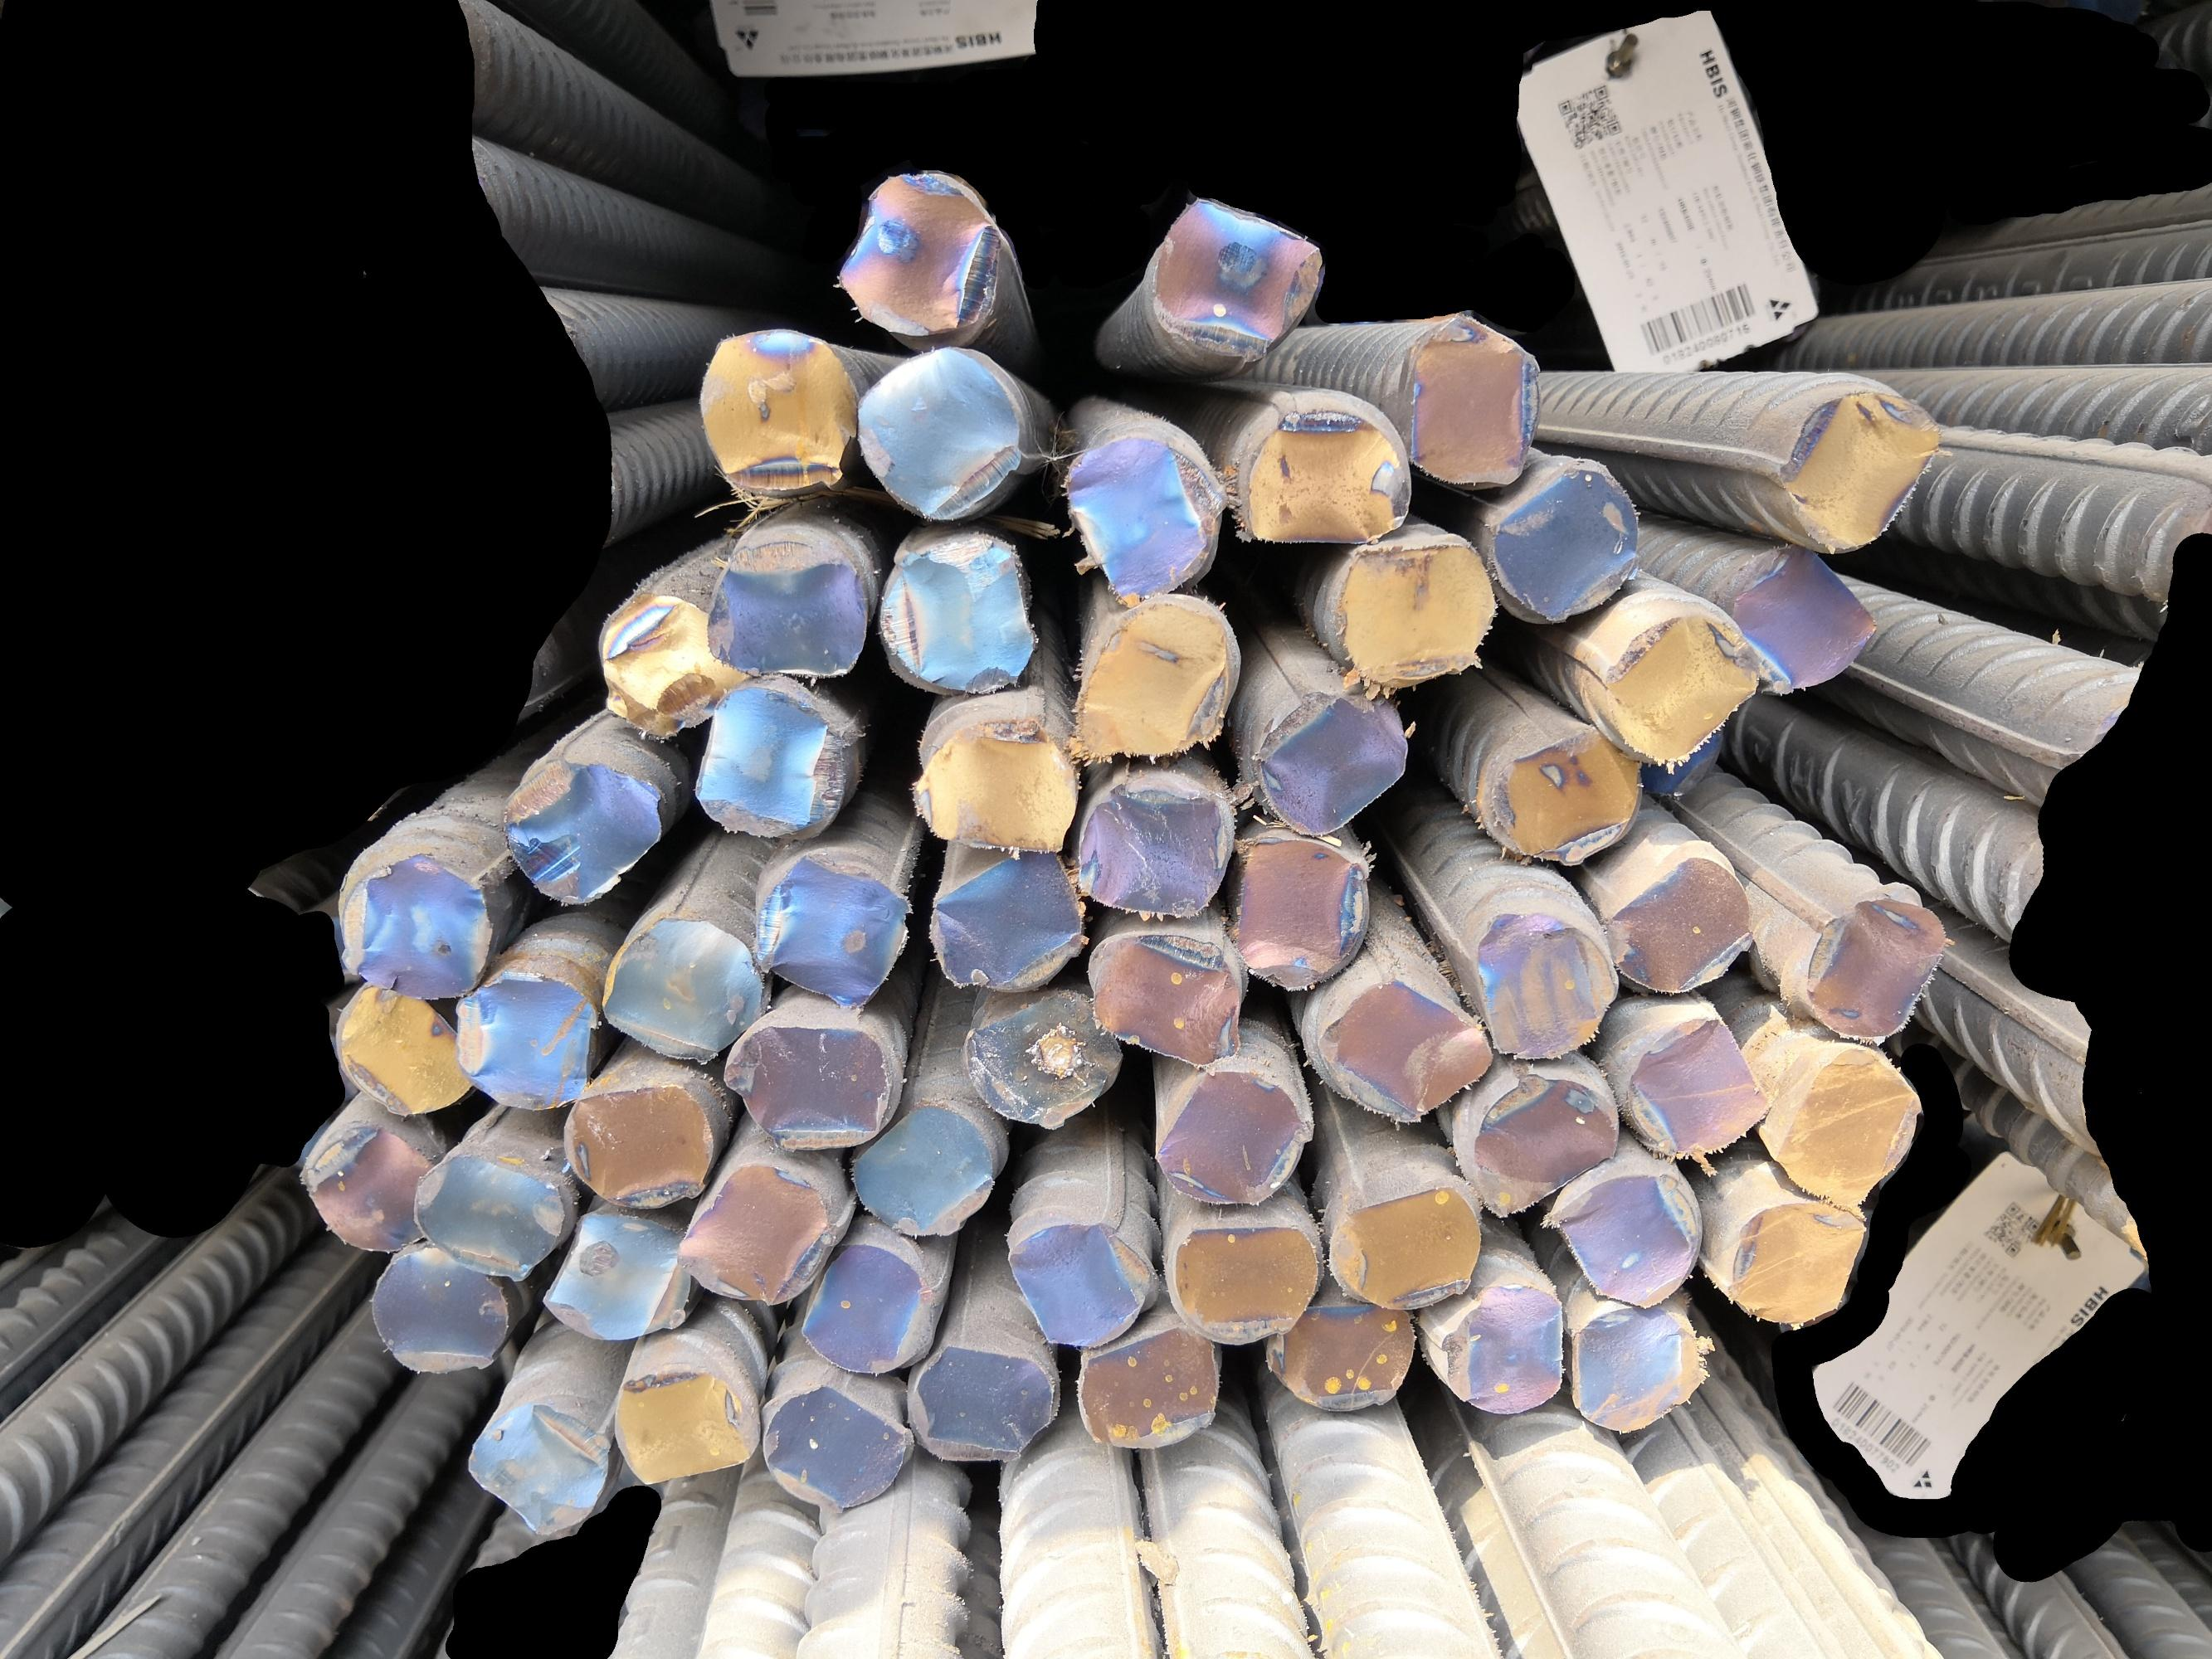bar: (849, 340, 1023, 526), (692, 319, 865, 504), (1769, 383, 1949, 558), (1058, 429, 1229, 606), (831, 166, 1001, 345), (1145, 190, 1325, 359), (872, 528, 1041, 699), (1065, 599, 1236, 767), (1311, 974, 1496, 1127), (1328, 537, 1503, 699), (1593, 606, 1766, 769), (1482, 460, 1645, 627), (500, 753, 669, 910), (594, 913, 769, 1065), (1401, 308, 1544, 493), (905, 709, 1082, 857), (750, 850, 915, 1009), (1769, 1042, 1926, 1208), (1722, 535, 1883, 695), (669, 1159, 838, 1309), (336, 847, 499, 1002), (593, 587, 757, 741), (926, 840, 1089, 992), (1252, 690, 1415, 842), (1241, 404, 1414, 545), (959, 986, 1126, 1131), (1797, 892, 1952, 1047), (1469, 904, 1623, 1061), (702, 537, 870, 680), (1229, 831, 1372, 999), (1469, 1066, 1621, 1223), (720, 1019, 894, 1154), (1070, 782, 1239, 920), (1621, 1012, 1776, 1162), (690, 681, 838, 838), (1149, 1061, 1309, 1206), (1598, 852, 1759, 995), (1541, 1168, 1703, 1309), (1496, 720, 1647, 868), (535, 1206, 697, 1344), (450, 965, 594, 1117), (558, 1079, 718, 1215), (1089, 929, 1245, 1068), (333, 978, 481, 1119), (1332, 1180, 1487, 1314), (757, 1380, 913, 1513), (406, 1150, 565, 1281), (845, 1098, 994, 1237), (464, 1401, 614, 1539), (1164, 1223, 1323, 1349), (1075, 1316, 1222, 1450), (1722, 1197, 1870, 1330), (1429, 1279, 1569, 1419), (1569, 1297, 1710, 1434), (366, 1243, 512, 1375), (298, 1122, 443, 1255), (1262, 1293, 1421, 1413), (1002, 1216, 1143, 1351), (610, 1364, 758, 1490), (910, 1340, 1060, 1462), (797, 1239, 927, 1378), (1637, 713, 1729, 798)
